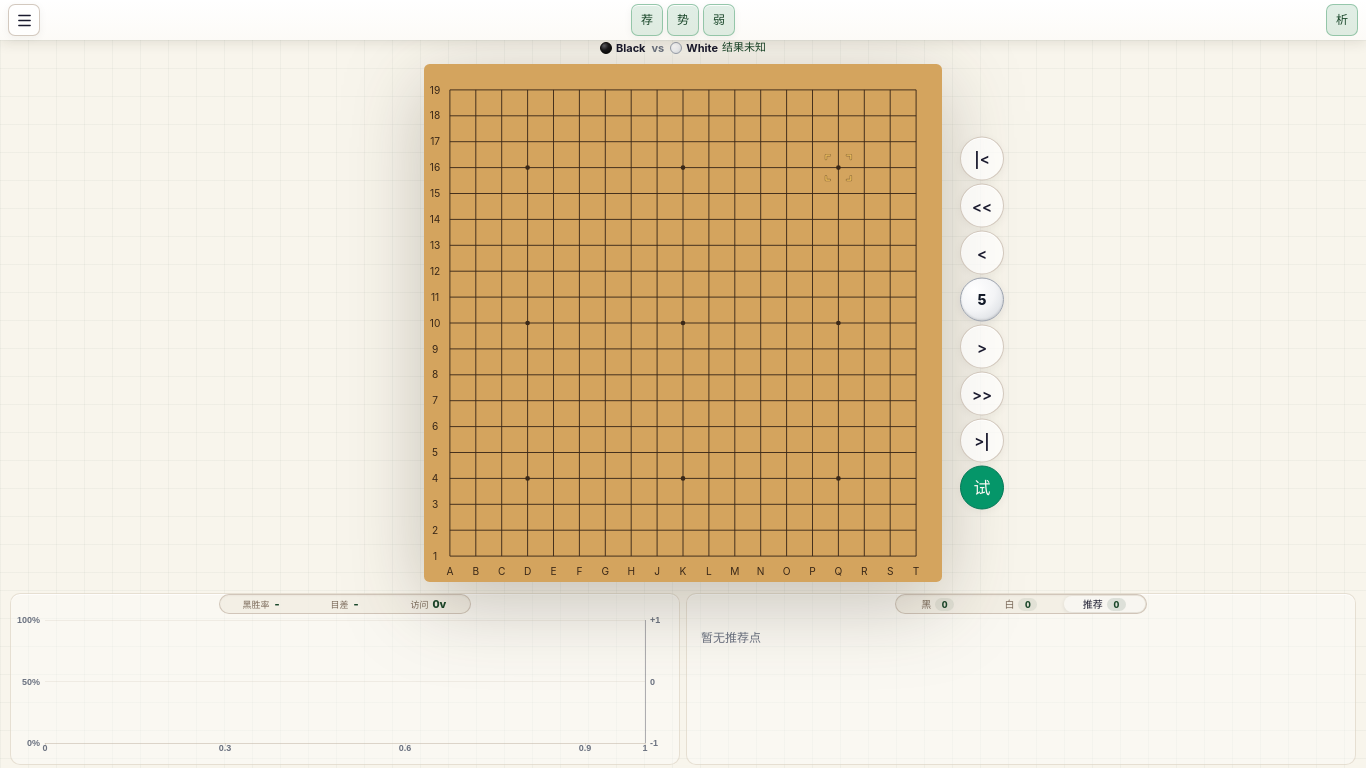
App variation navigation › shows a contextual titlebar and hides home actions while a page is open
Expected: the text named "Move 5, white to play" is shown, top-left (960, 278), bottom-right (1004, 322)
Click the button named "打开功能菜单". click: {"x": 24, "y": 20}
box: top-left (8, 4), bottom-right (40, 36)
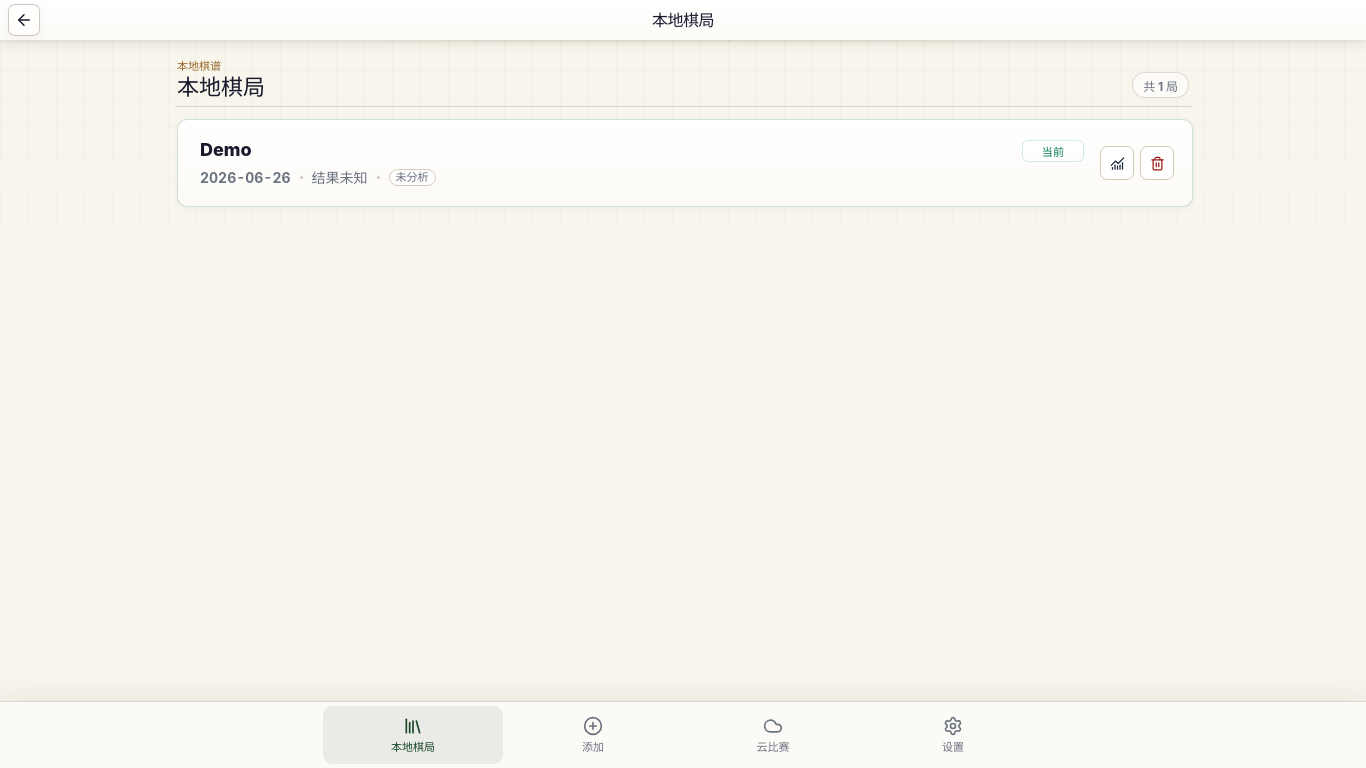
Click the button "设置". click: {"x": 953, "y": 735}
box: top-left (863, 706), bottom-right (1043, 764)
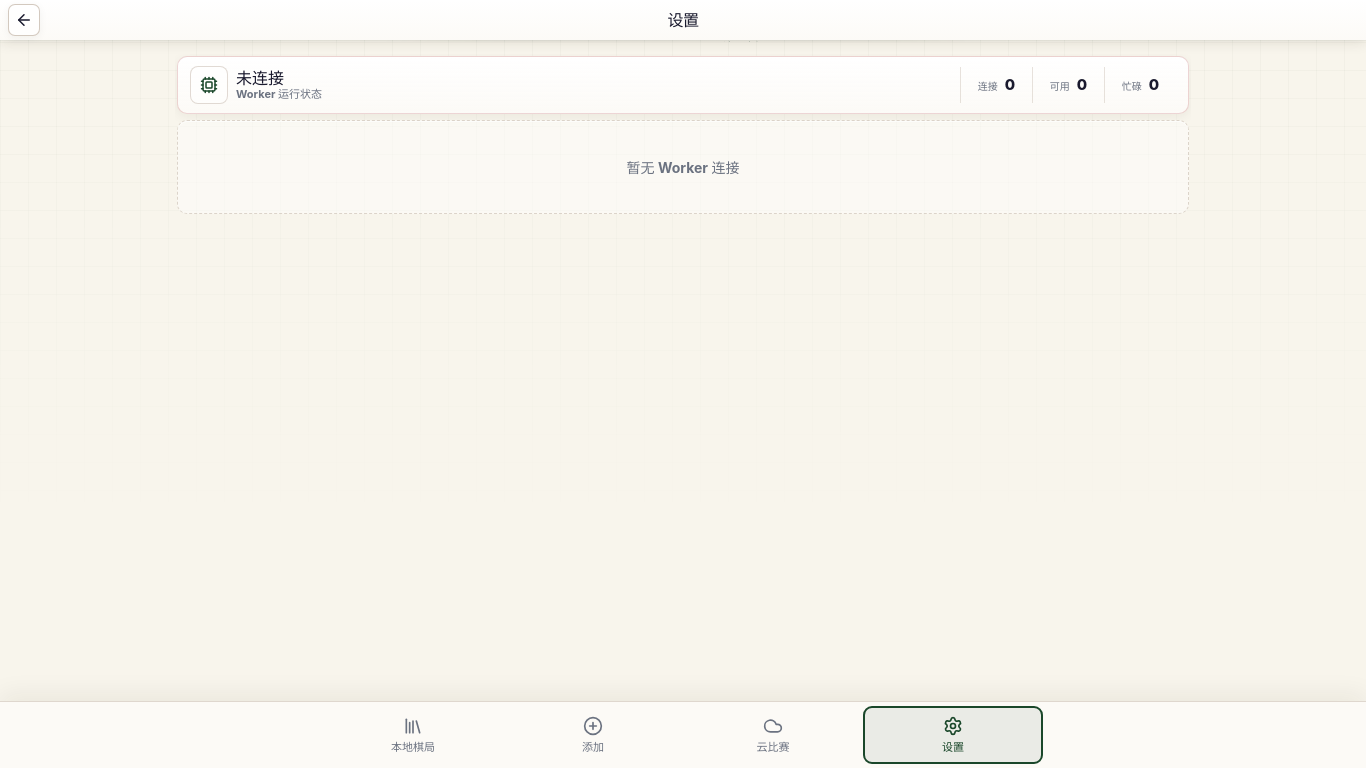
Result: the navigation bar named "应用功能" is shown at top-left (0, 701), bottom-right (1365, 767)
Result: the header "设置" is shown at top-left (8, 4), bottom-right (698, 36)
Result: the element named "设置内容" is shown at top-left (177, 56), bottom-right (1189, 214)
